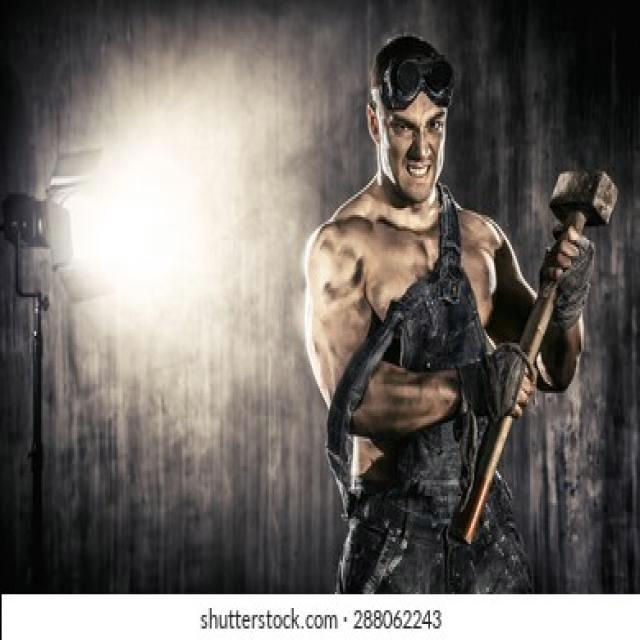hammer: (444, 157, 623, 548)
